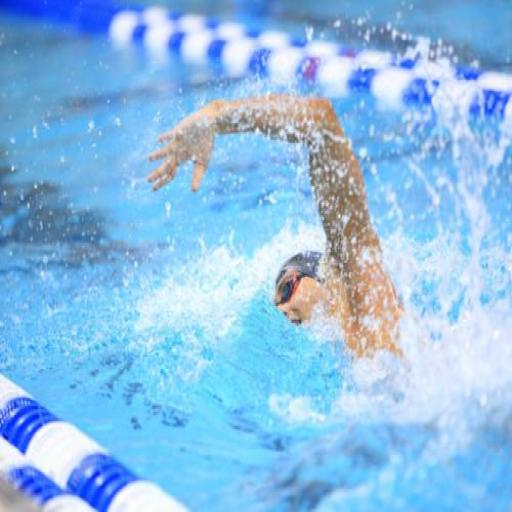swimming: (144, 88, 412, 376)
